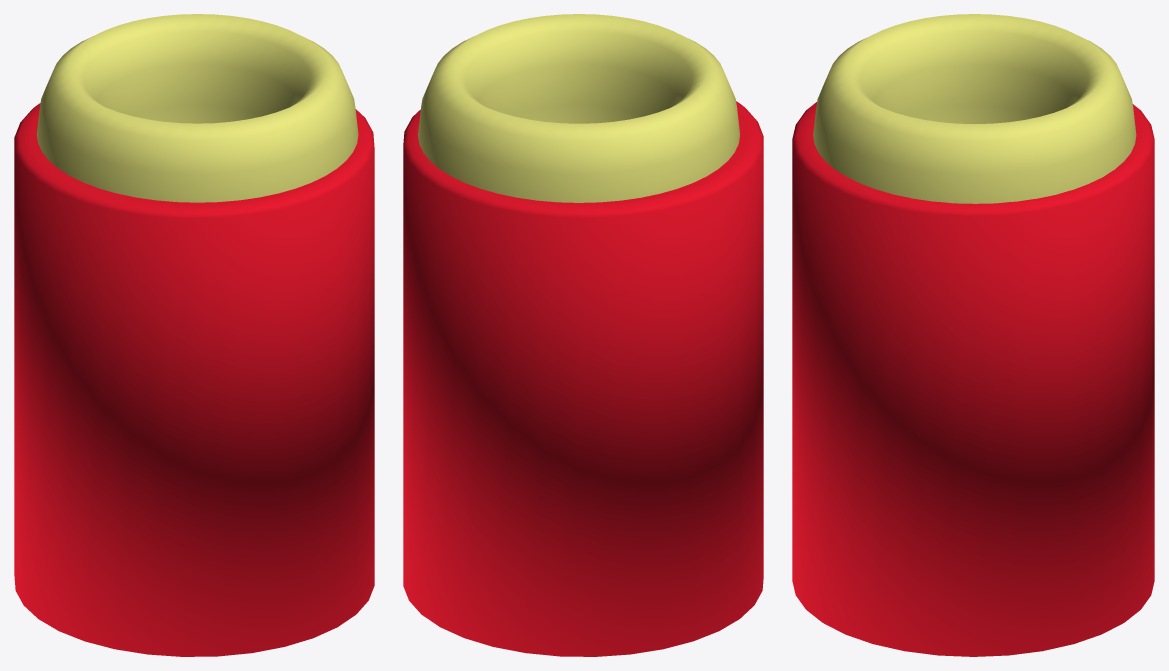
Rendered from clemm2.glb.
The picture shows the model from 3 angles, left to right: view 1: azimuth 30°, elevation 25°; view 2: azimuth 150°, elevation 25°; view 3: azimuth 270°, elevation 25°; orthographic projection.
Visible parts, largest first — view 1: Изолятор контакта #1.009; view 2: Изолятор контакта #1.009; view 3: Изолятор контакта #1.009.
Boxes of the visible parts, box(x1,y1,x2,y2) form: Изолятор контакта #1.009: box(14, 14, 374, 656); Изолятор контакта #1.009: box(403, 14, 763, 656); Изолятор контакта #1.009: box(792, 14, 1154, 656).
Size of the model in its own units: 0.1379 by 0.2154 by 0.1379.
